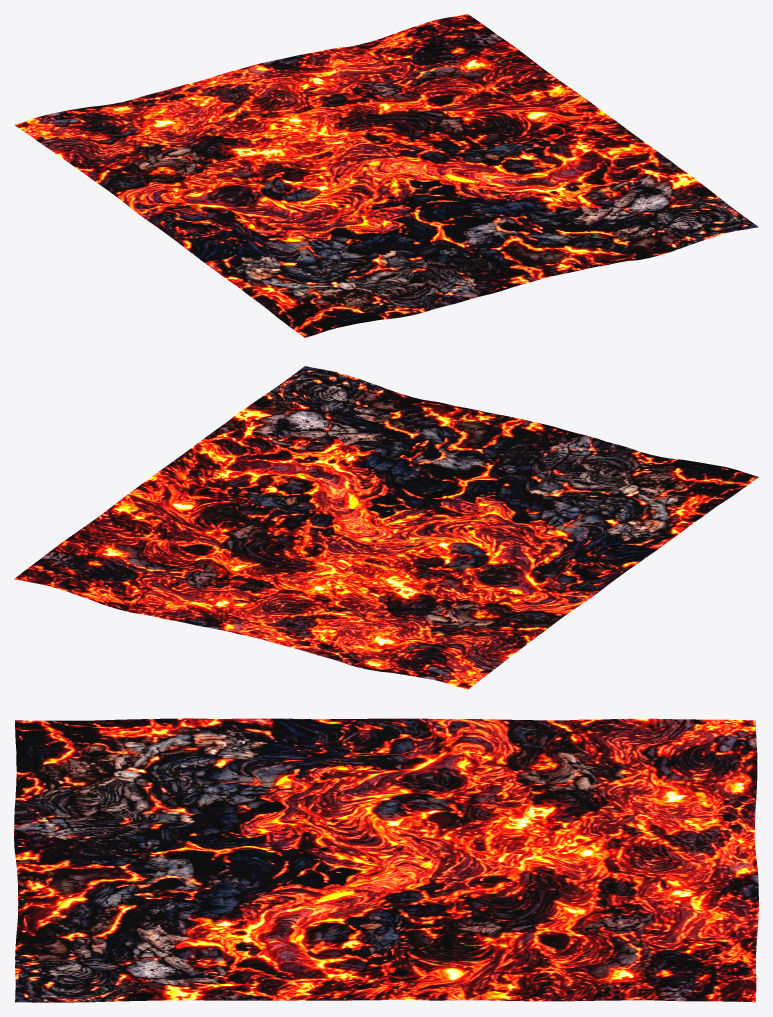
Rendered from lava.glb.
3 renders of one model, top to bottom at view 1: azimuth 30°, elevation 25°; view 2: azimuth 150°, elevation 25°; view 3: azimuth 270°, elevation 25°, orthographic. The views are drawn at different scales.
Visible parts, largest first — view 1: Plane.002; view 2: Plane.002; view 3: Plane.002.
Boxes of the visible parts, x1=… form: Plane.002: x1=14, y1=14, x2=758, y2=337; Plane.002: x1=14, y1=366, x2=758, y2=689; Plane.002: x1=14, y1=718, x2=758, y2=1002.
Size of the model in its own units: 8.26 by 0.1233 by 9.23.
Materials: 1 (1 with a texture image).
